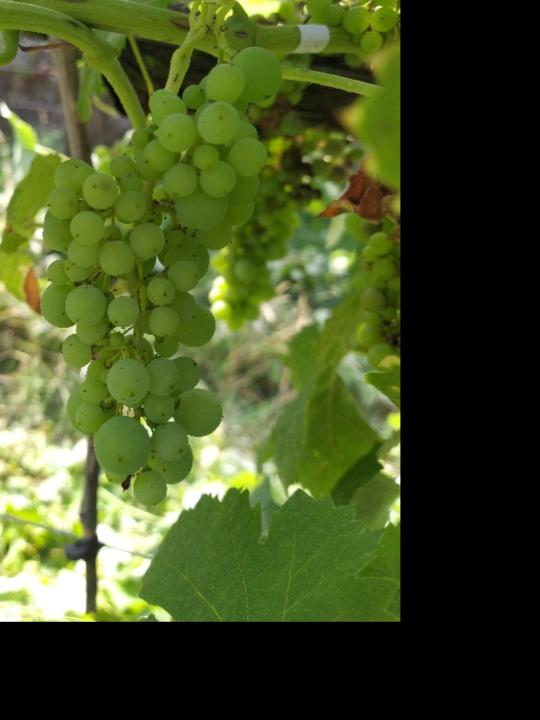grape: (39, 45, 283, 508)
